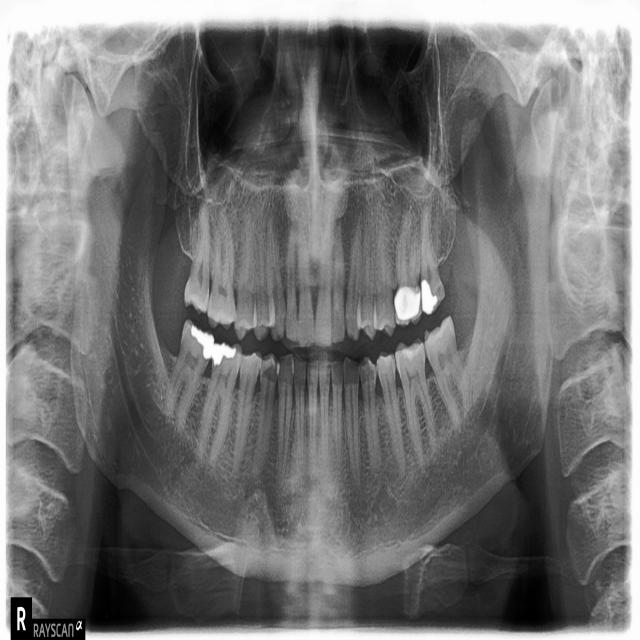mandibula: (61, 70, 561, 583)
